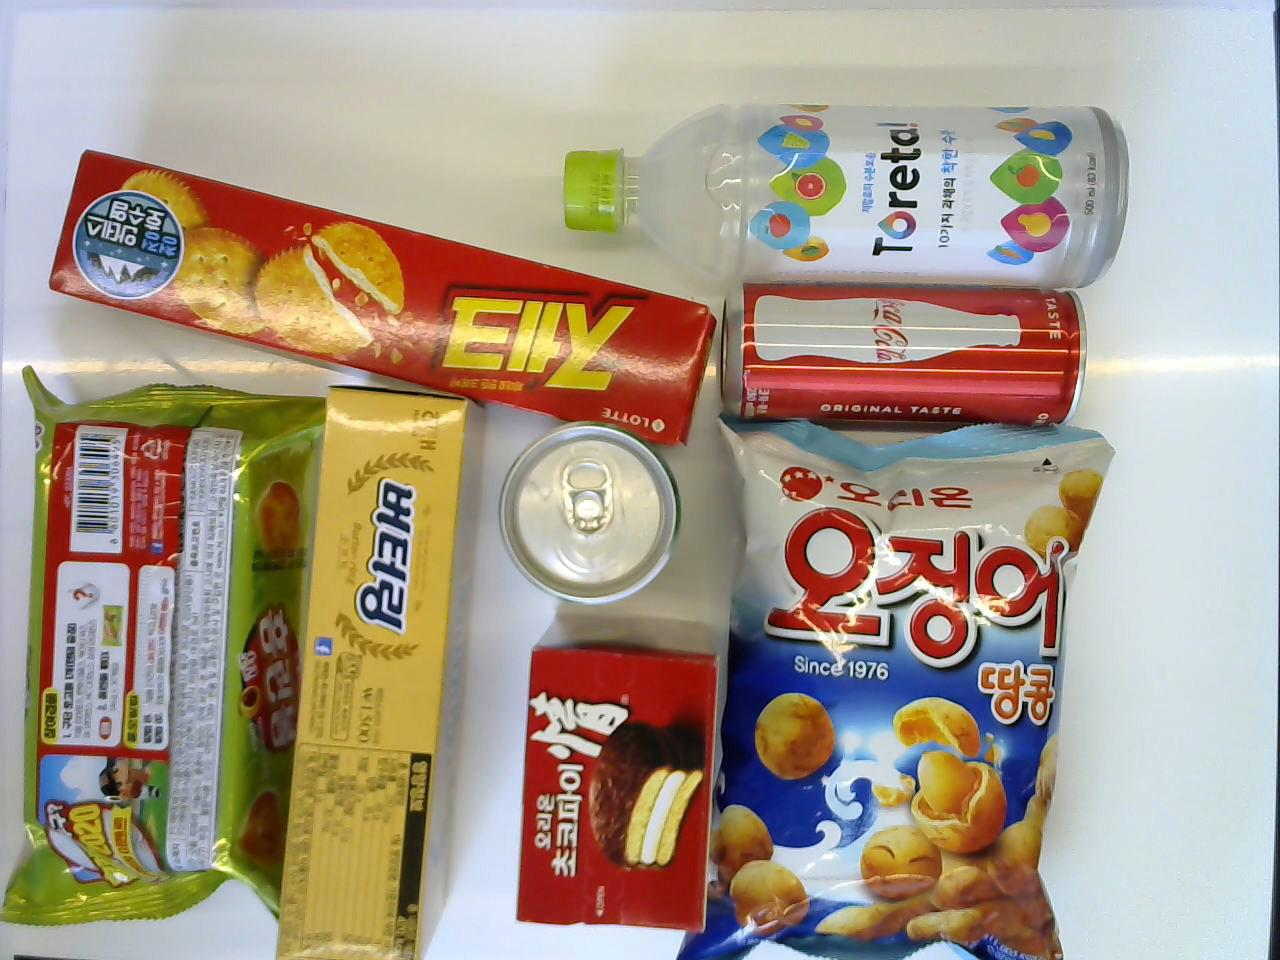buttering: (274, 383, 488, 958)
chocopie: (513, 608, 719, 932)
cidar: (494, 425, 682, 608)
coke: (718, 275, 1089, 443)
homerunball: (3, 361, 333, 929)
squid_peanut: (677, 413, 1117, 958)
toreta: (558, 102, 1133, 289)
zec: (45, 147, 712, 451)
